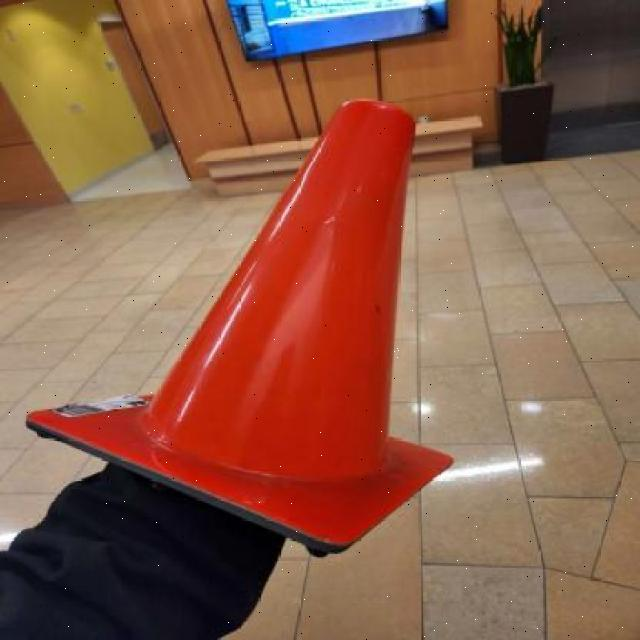traffic cone: (23, 78, 468, 582)
